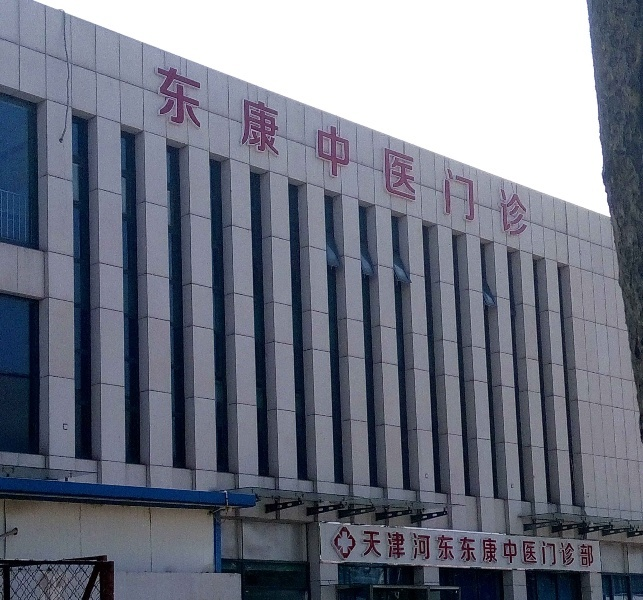text: (161, 61, 176, 246), (177, 61, 192, 246), (193, 61, 208, 246), (209, 61, 224, 246), (225, 61, 240, 246), (241, 61, 256, 246), (257, 61, 272, 246), (273, 61, 288, 246), (289, 61, 304, 246), (305, 61, 320, 246), (321, 61, 336, 246), (337, 61, 352, 246), (353, 61, 368, 246), (369, 61, 384, 246), (385, 61, 400, 246), (401, 61, 416, 246), (417, 61, 432, 246), (433, 61, 448, 246), (449, 61, 464, 246), (465, 61, 480, 246), (481, 61, 496, 246), (497, 61, 512, 246), (513, 61, 528, 246), (369, 528, 384, 568), (385, 528, 400, 568), (401, 528, 416, 568), (417, 528, 432, 568), (433, 528, 448, 568), (449, 528, 464, 568), (465, 528, 480, 568), (481, 528, 496, 568), (497, 528, 512, 568), (513, 528, 528, 568), (529, 528, 544, 568), (545, 528, 560, 568), (561, 528, 576, 568), (577, 528, 592, 568), (529, 61, 532, 246), (159, 61, 160, 246), (364, 528, 368, 568), (593, 528, 597, 568)
